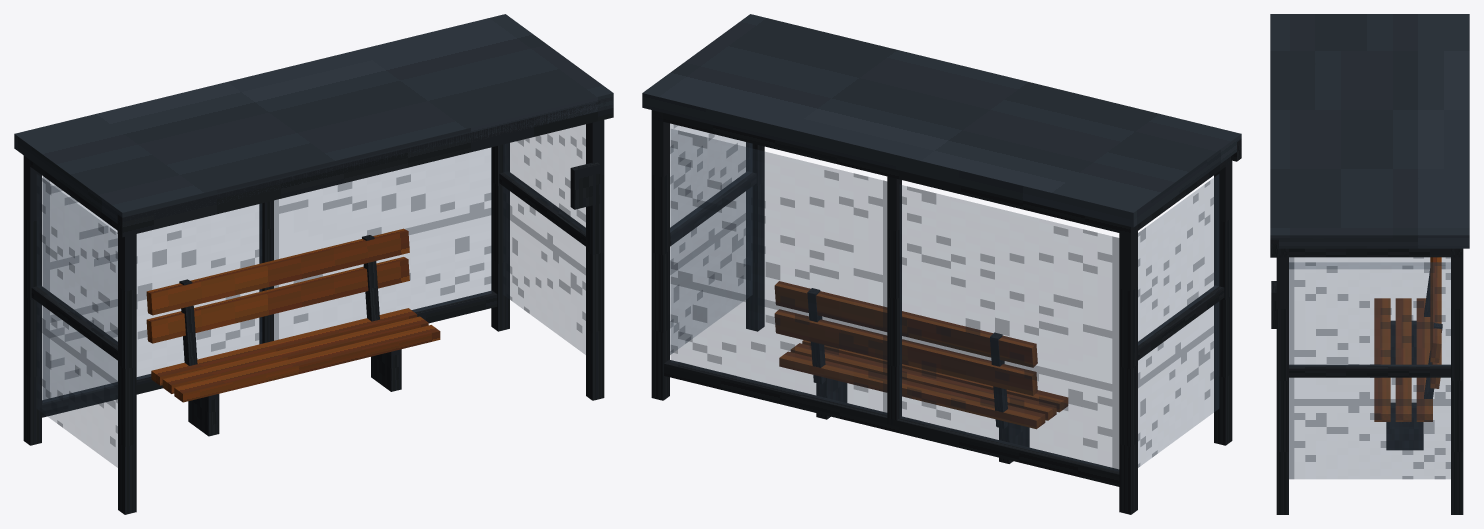
The model's file is bus_stop.glb.
3 views of the same model, side by side, from view 1: azimuth 30°, elevation 25°; view 2: azimuth 150°, elevation 25°; view 3: azimuth 270°, elevation 25° (orthographic). The views are drawn at different scales.
Visible parts, largest first — view 1: RoofPanel, BackGlassRight, BackGlassLeft, LeftGlass, RightGlass, FrontFascia, BackrestUpper, BackrestLower, LeftFrontPost, LeftBackPost, RightFrontPost, SeatSlatFront (+12 smaller); view 2: RoofPanel, BackGlassLeft, BackGlassRight, LeftGlass, RightGlass, BackBottomRail, BackrestLower, BackrestUpper, LeftBackPost, RightBackPost, LeftFrontPost, BackTopBeam (+9 smaller); view 3: RoofPanel, RightGlass, RightBackPost, RightFrontPost, RightMidRail, SeatSlatFront, SeatSlatMiddle, LeftGlass, RightTopBeam, SeatSlatBack, RightLeg, BackrestUpper (+3 smaller).
Part boxes in pixels (x1,y1,x2,y2): RoofPanel: [14, 14, 613, 226]; BackGlassRight: [274, 148, 491, 340]; BackGlassLeft: [42, 176, 262, 402]; LeftGlass: [36, 174, 117, 467]; RightGlass: [503, 124, 585, 354]; FrontFascia: [117, 100, 613, 237]; BackrestUpper: [146, 228, 409, 315]; BackrestLower: [146, 257, 409, 343]; LeftFrontPost: [118, 234, 136, 514]; LeftBackPost: [23, 155, 41, 445]; RightFrontPost: [586, 120, 604, 400]; SeatSlatFront: [174, 325, 440, 402]; RoofPanel: [642, 14, 1241, 227]; BackGlassLeft: [899, 185, 1119, 471]; BackGlassRight: [670, 129, 887, 414]; LeftGlass: [1138, 174, 1219, 467]; RightGlass: [670, 123, 752, 354]; BackBottomRail: [664, 359, 1119, 486]; BackrestLower: [774, 309, 1037, 395]; BackrestUpper: [774, 281, 1037, 367]; LeftBackPost: [1119, 225, 1137, 514]; RightBackPost: [651, 110, 669, 400]; LeftFrontPost: [1214, 157, 1232, 445]; BackTopBeam: [651, 110, 1137, 235]; RoofPanel: [1270, 14, 1469, 248]; RightGlass: [1289, 262, 1450, 479]; RightBackPost: [1451, 249, 1463, 514]; RightFrontPost: [1276, 249, 1288, 514]; RightMidRail: [1289, 364, 1450, 377]; SeatSlatFront: [1374, 298, 1390, 421]; SeatSlatMiddle: [1395, 298, 1411, 421]; LeftGlass: [1289, 257, 1450, 268]; RightTopBeam: [1289, 248, 1450, 257]; SeatSlatBack: [1416, 298, 1432, 421]; RightLeg: [1386, 402, 1423, 450]; BackrestUpper: [1430, 257, 1441, 362].
Bounding box in the file's own units: 4.2 × 2.5 × 1.6.
Materials: 5 (5 with a texture image).
